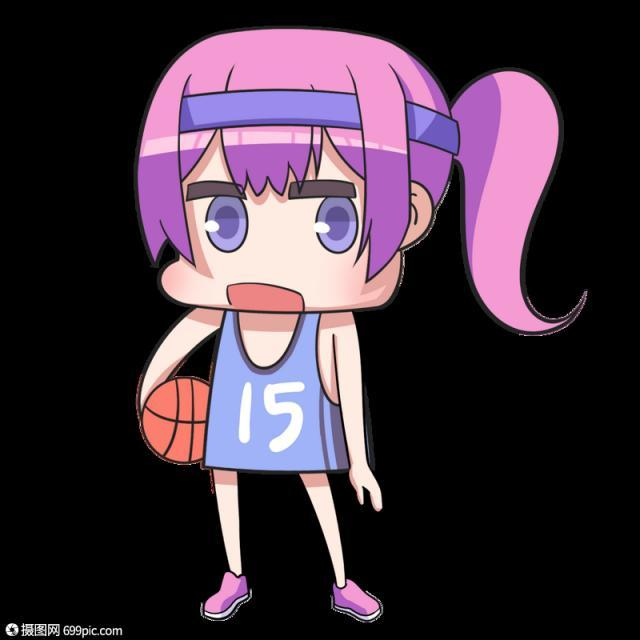rim: (138, 379, 214, 466)
